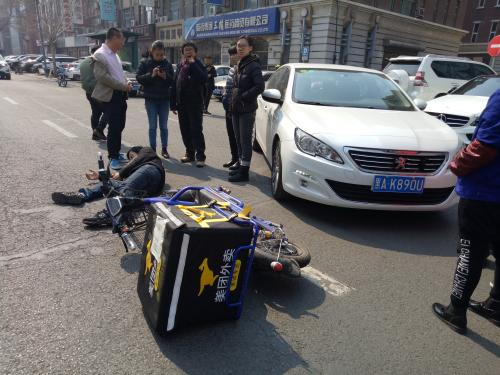fall: (49, 140, 177, 233)
